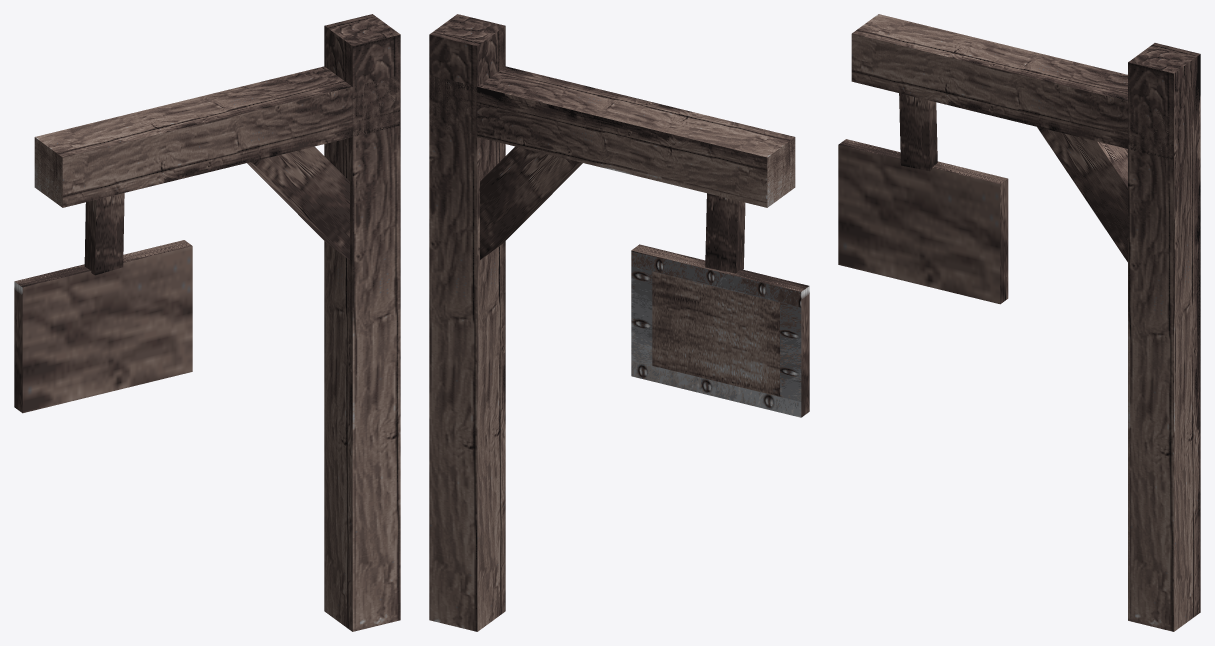
File: SoporteNumero (1).fbx
The picture shows the model from 3 angles, left to right: view 1: azimuth 30°, elevation 25°; view 2: azimuth 150°, elevation 25°; view 3: azimuth 330°, elevation 25°; orthographic projection. The views are drawn at different scales.
Visible parts, largest first — view 1: Soporte; view 2: Soporte; view 3: Soporte.
Boxes of the visible parts, x1,y1,x2,y2 form: Soporte: (14, 14, 400, 631); Soporte: (429, 14, 809, 631); Soporte: (838, 14, 1200, 631).
Size of the model in its own units: 348 by 534 by 46.37.
Materials: 5 (5 with a texture image).
